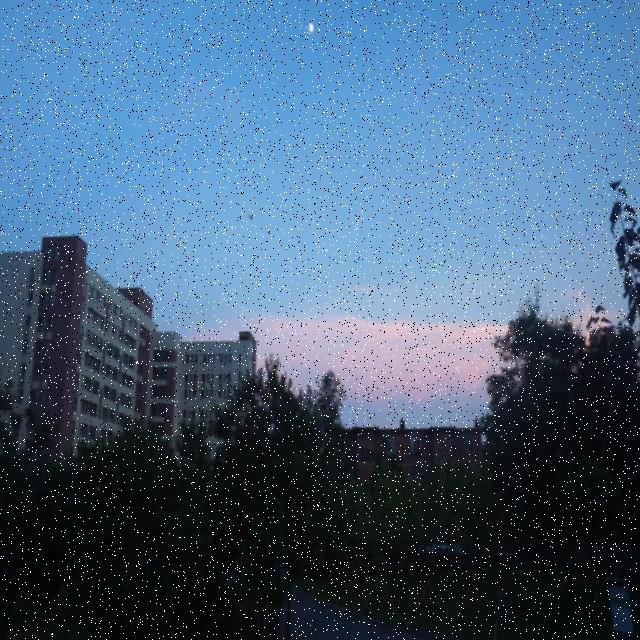UAV: (248, 213, 254, 220)
